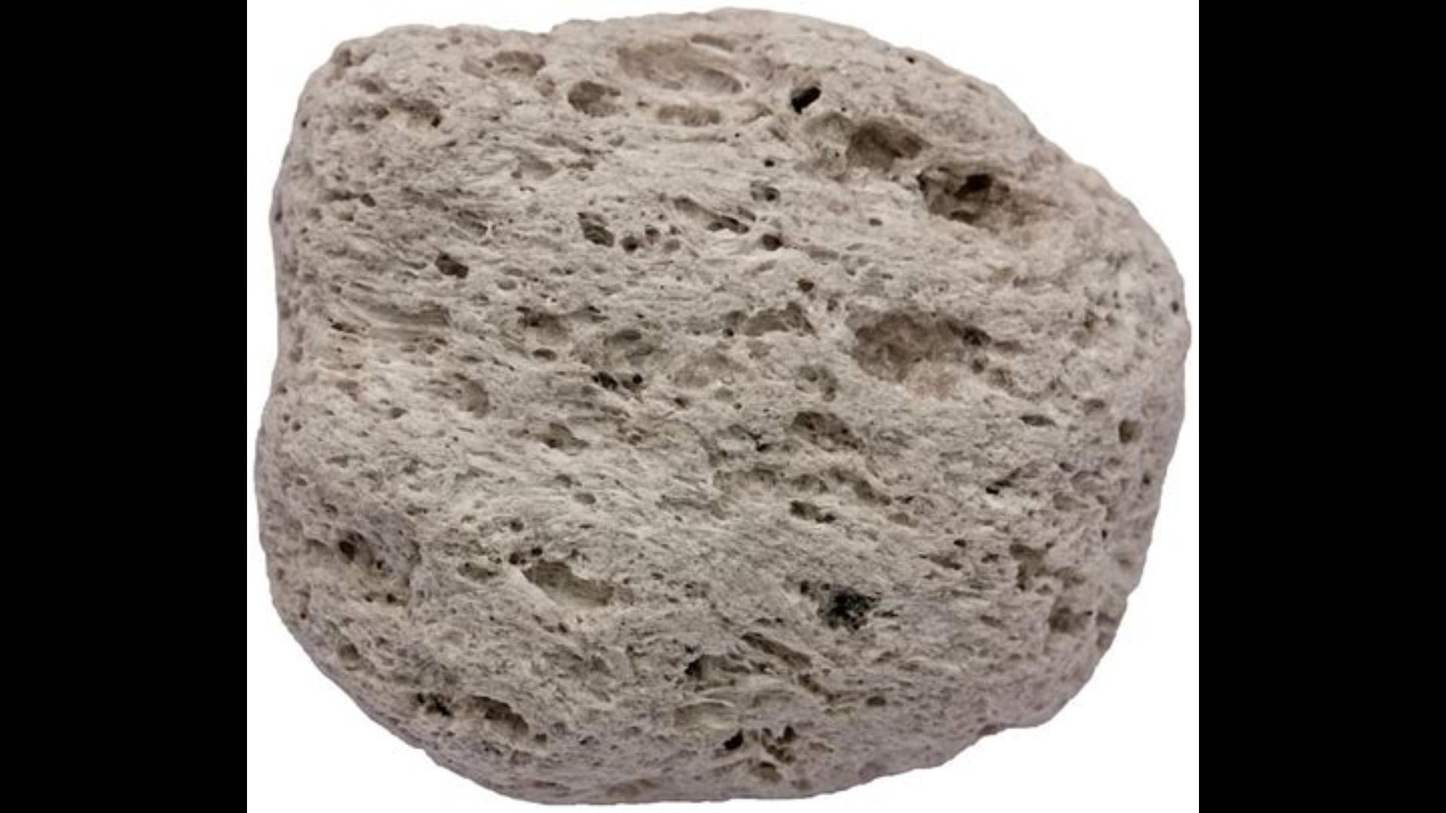rock: (255, 16, 1181, 799)
